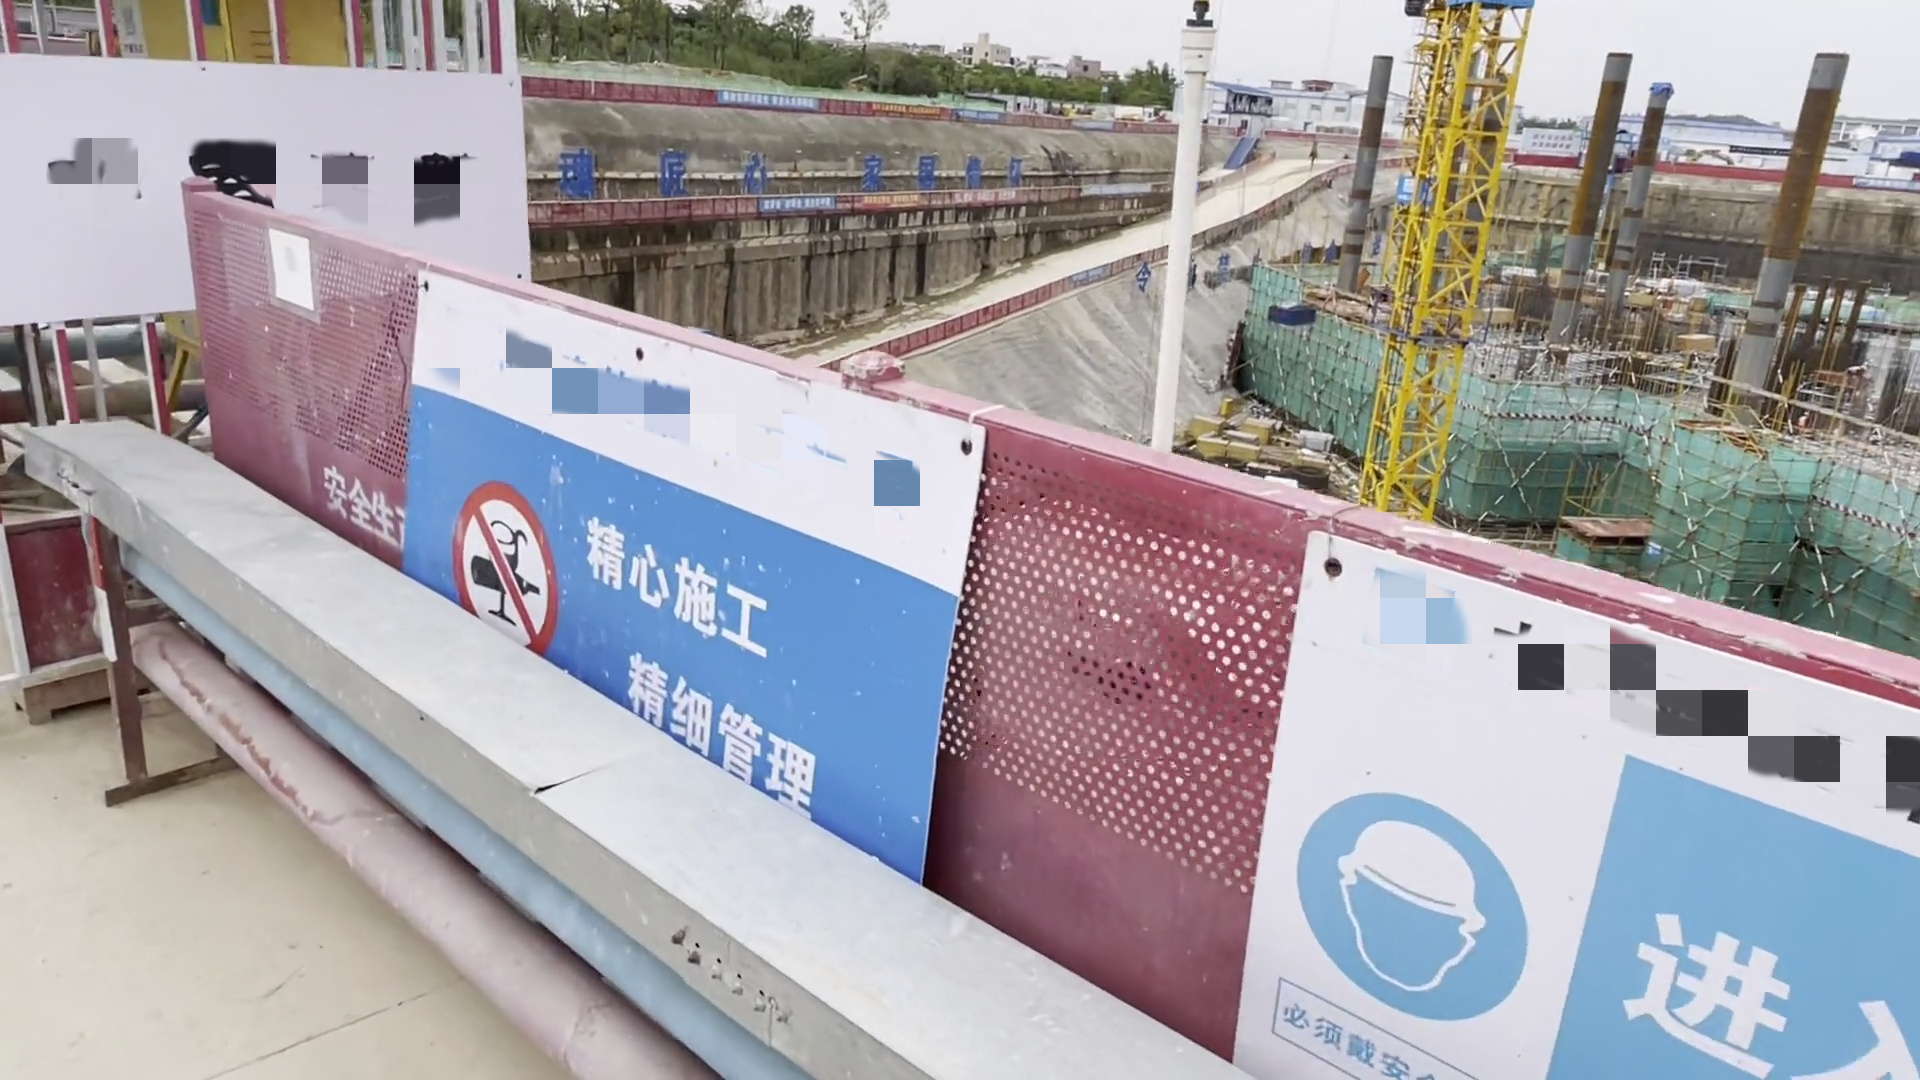fence: (185, 174, 406, 535)
hook: (1309, 138, 1321, 173)
slogan: (1237, 516, 1912, 1080), (381, 294, 1000, 899)
